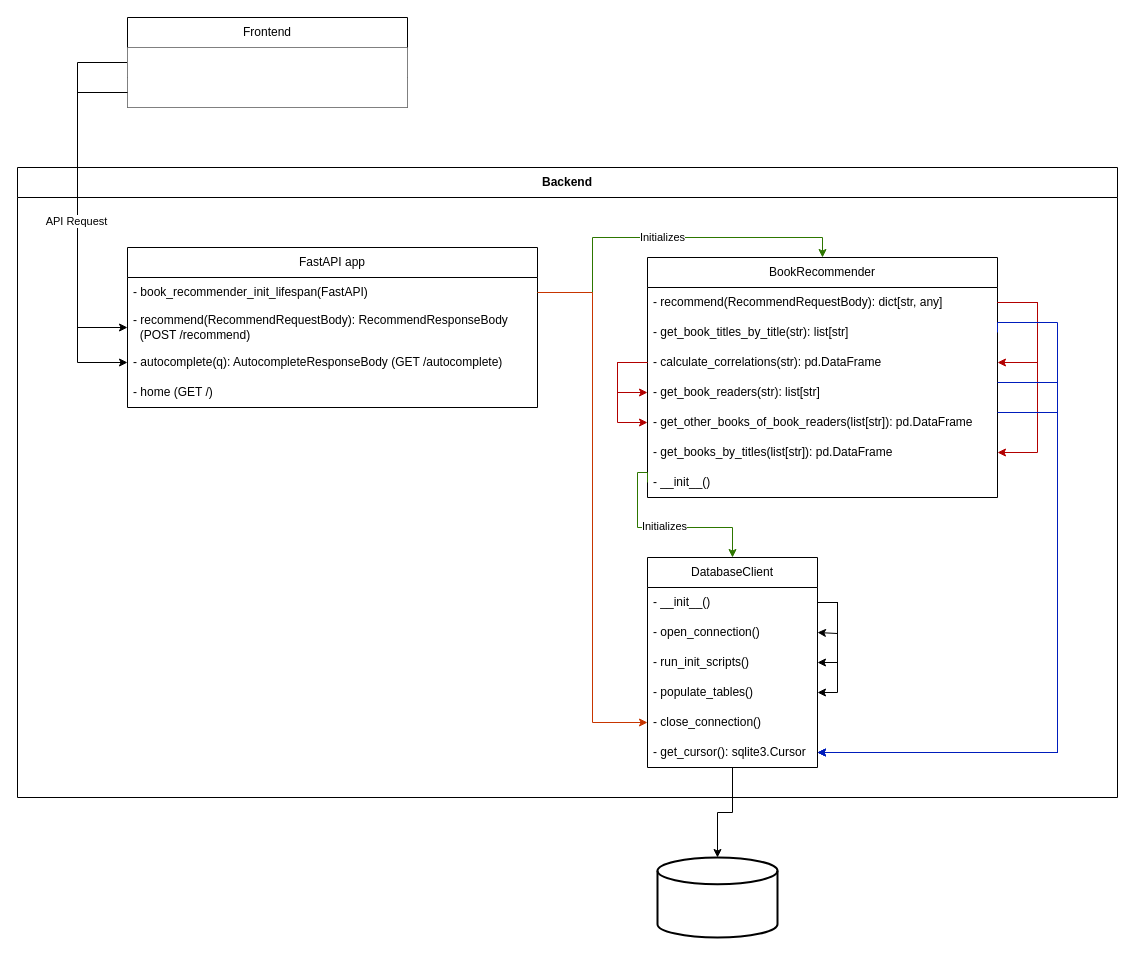
Image size: 1135x956. Some labels were removed from this diagram. Each missing label, with the centre of its shape:
"- fetchTitleSuggestions(query)" belongs at [267,92].
"- getRecommendations()" belongs at [267,62].
"Database" belongs at [717,897].
